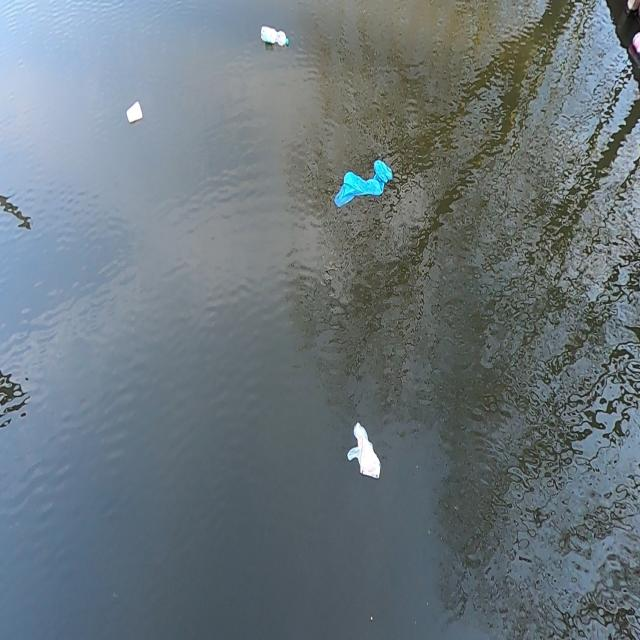Bouteille plastique: (254, 19, 295, 51)
Non plastique: (124, 99, 144, 127)
Sac plastique: (332, 152, 397, 214), (344, 422, 384, 485)
